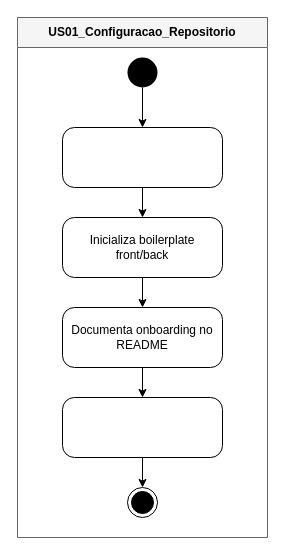
Image size: 285x555. Some labels were removed from this diagram. Here are the shapes that lost their labels. From the top down, the centre of each, then its label:
the point at 142,157: Define stack, lint e CI básicos
the point at 142,427: Revisão e merge na branch principal
